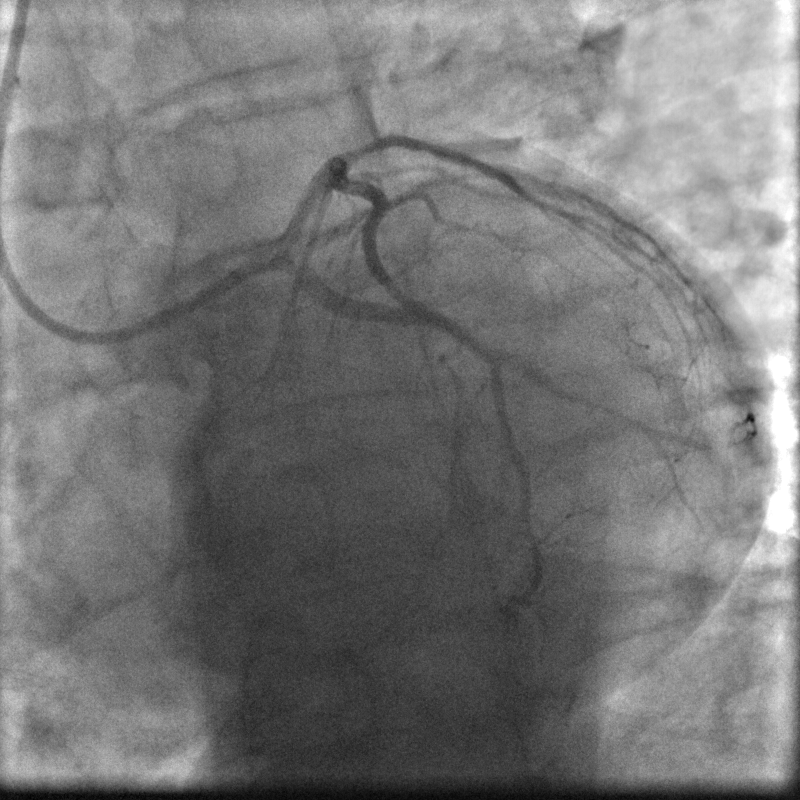Stenosis: (338, 128, 394, 163)
